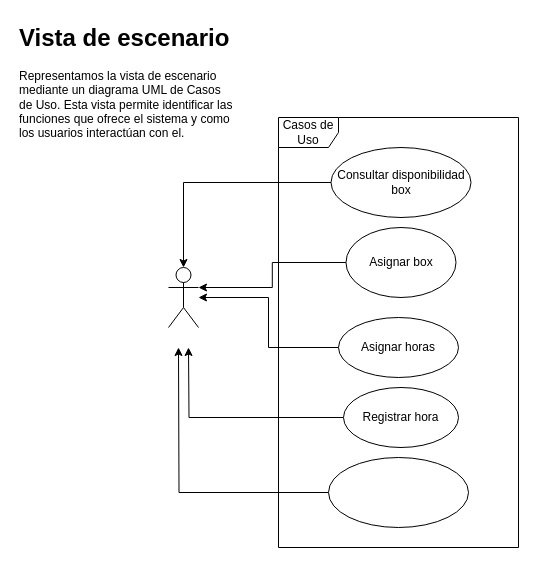
Some shapes in this 536 by 565 pixel diagram are drawn without their labels. Here are the shapes that lost their labels. From the top down, the centre of each, then its label:
At (x=183, y=297): "Actor".
At (x=398, y=492): "Consultar disponibilidad especialista".
